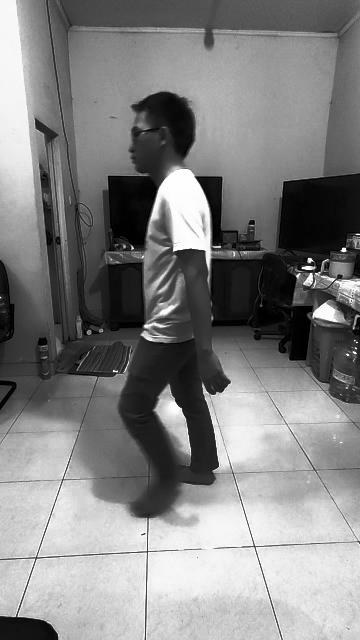berjalan: (104, 92, 236, 522)
